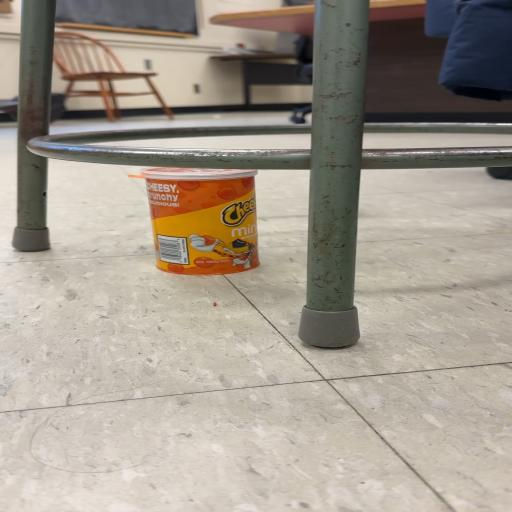pringles: (148, 167, 260, 274)
